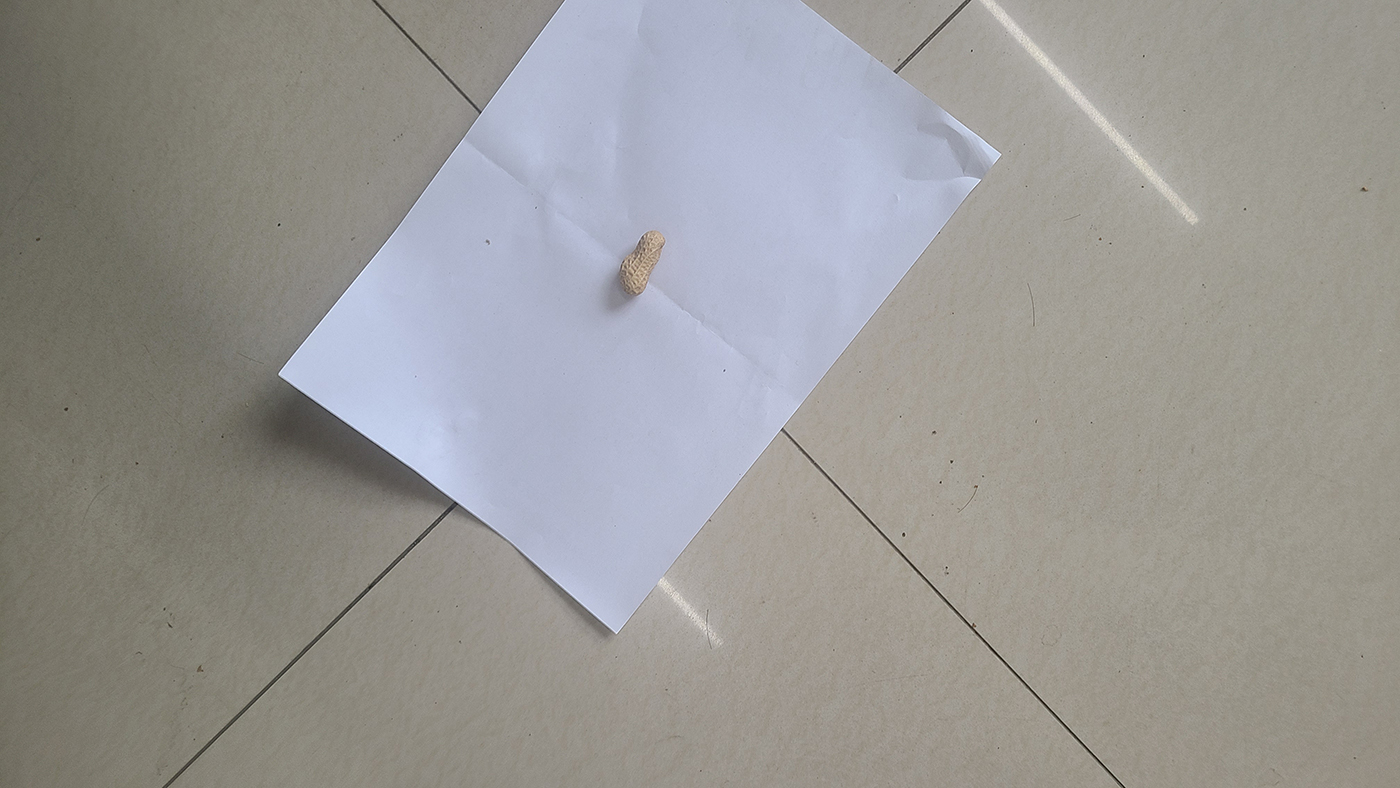h: (620, 230, 664, 296)
